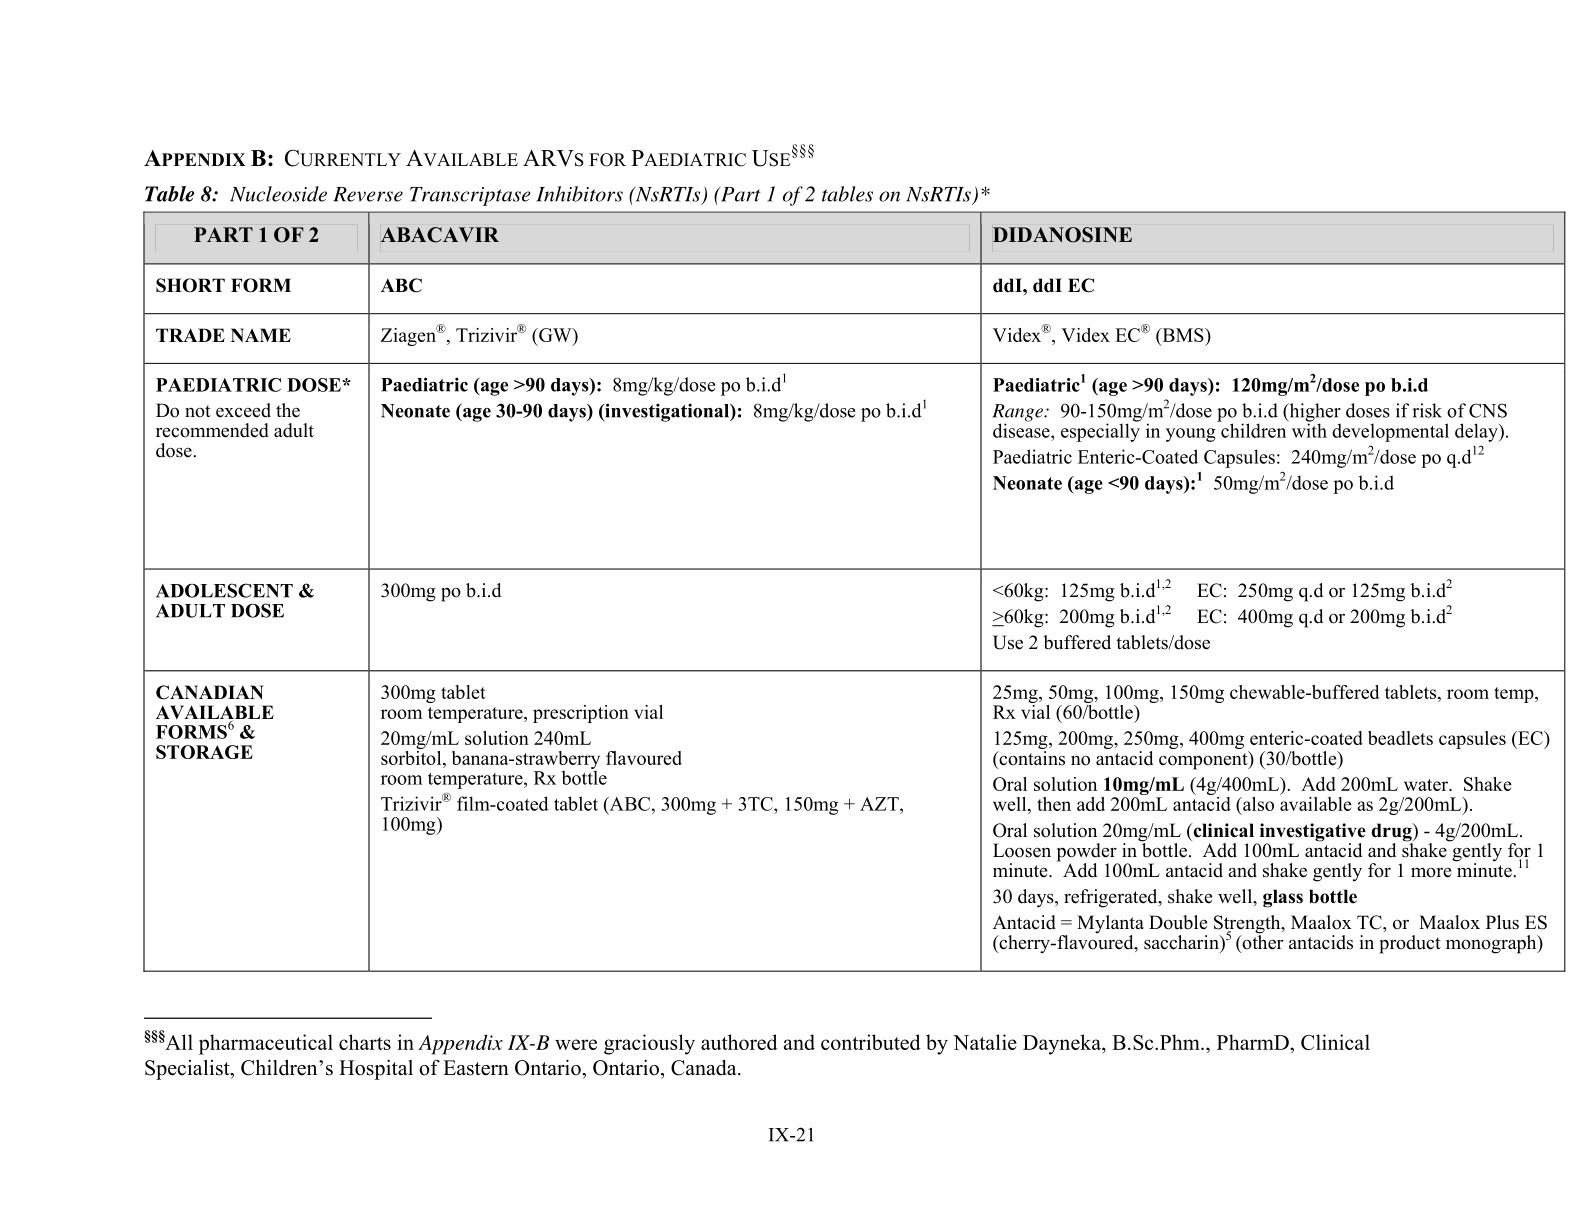full_lined: (141, 210, 1566, 973)
